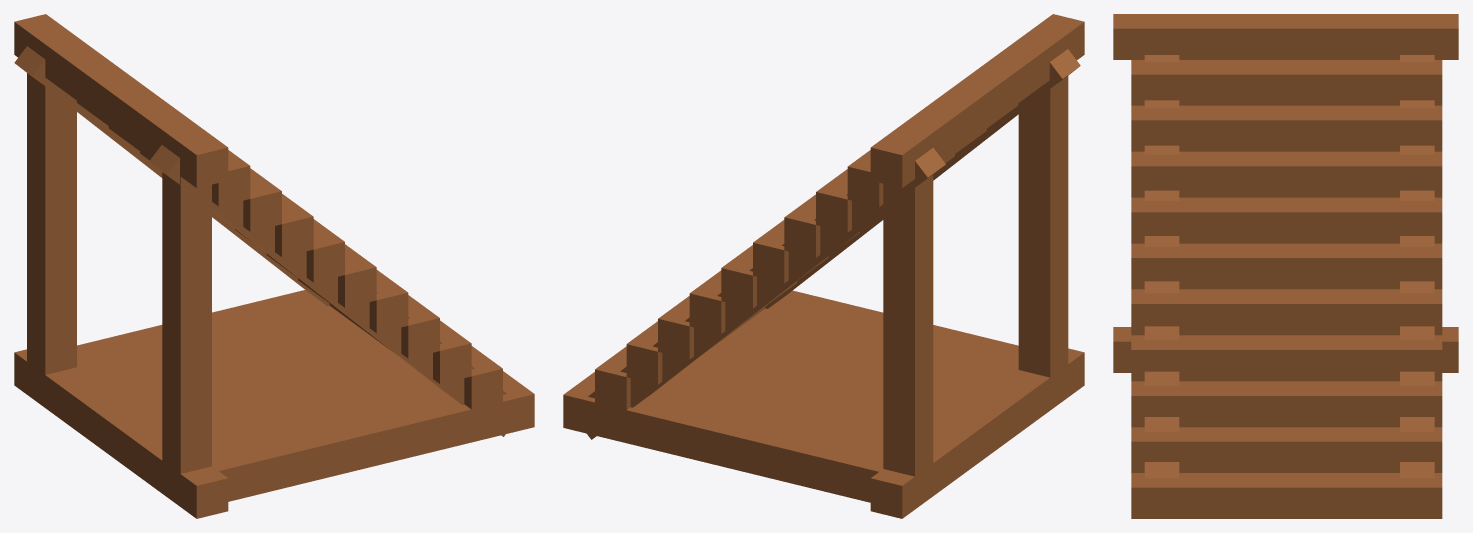
Rendered from stairs.fbx.
3 renders of one model, left to right at view 1: azimuth 30°, elevation 25°; view 2: azimuth 150°, elevation 25°; view 3: azimuth 270°, elevation 25°, orthographic. The views are drawn at different scales.
Parts seen in each view (by area): view 1: Cube; view 2: Cube; view 3: Cube.
Boxes of the visible parts, left/top/right/bottom form: Cube: left=14, top=14, right=534, bottom=518; Cube: left=563, top=14, right=1084, bottom=518; Cube: left=1113, top=14, right=1458, bottom=518.
Bounding box in the file's own units: 1141 × 1128 × 1000.
